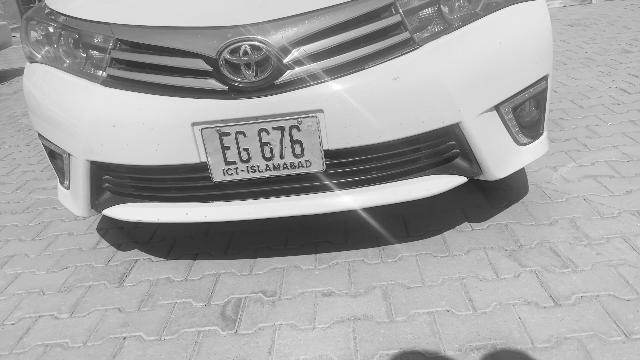Number: (214, 121, 307, 169)
